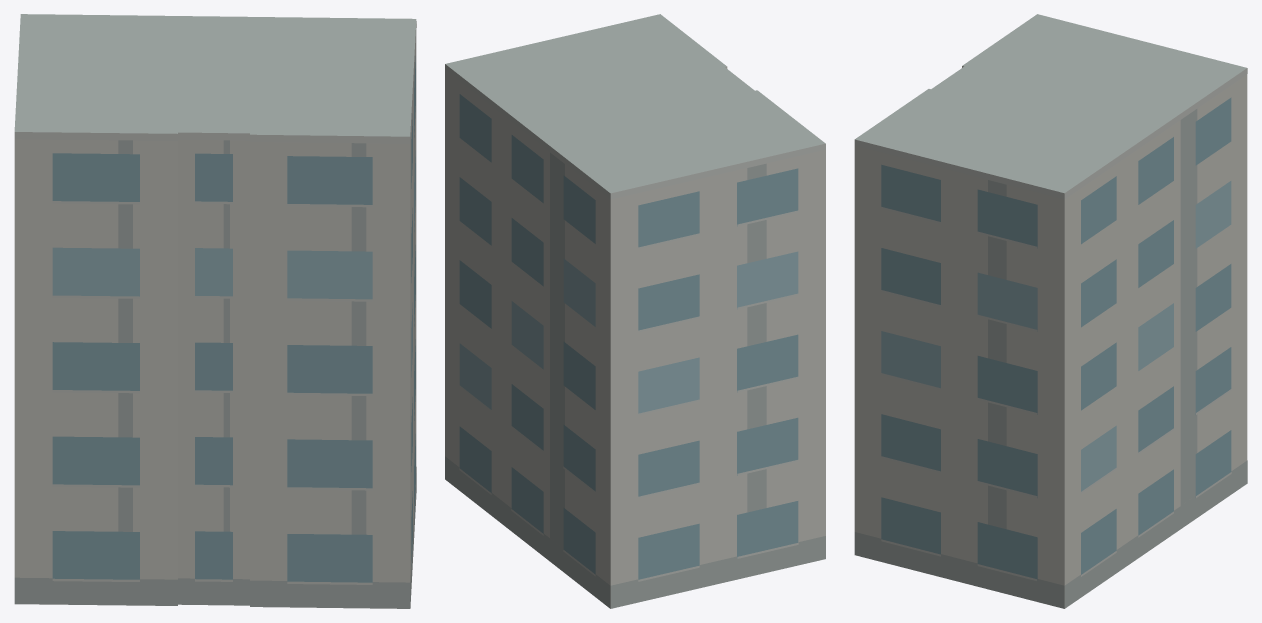
The model's file is survey-upis-32890964.glb.
The picture shows the model from 3 angles, left to right: view 1: azimuth 30°, elevation 25°; view 2: azimuth 150°, elevation 25°; view 3: azimuth 270°, elevation 25°; orthographic projection. The views are drawn at different scales.
Visible parts, largest first — view 1: survey-upis-32890964.tmp; view 2: survey-upis-32890964.tmp; view 3: survey-upis-32890964.tmp.
Boxes of the visible parts, box(x1,y1,x2,y2) form: survey-upis-32890964.tmp: box(14, 14, 416, 608); survey-upis-32890964.tmp: box(445, 14, 825, 608); survey-upis-32890964.tmp: box(854, 14, 1247, 608).
Size of the model in its own units: 14.9 by 16.1 by 13.8.
